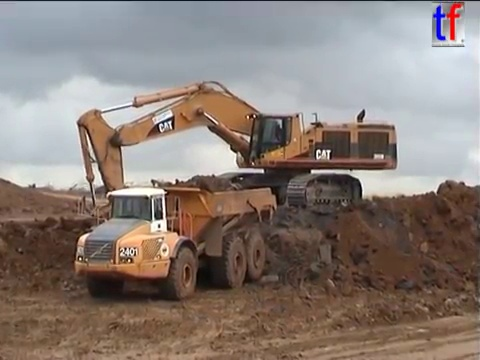excavator: (74, 78, 401, 233)
truck: (71, 182, 282, 301)
